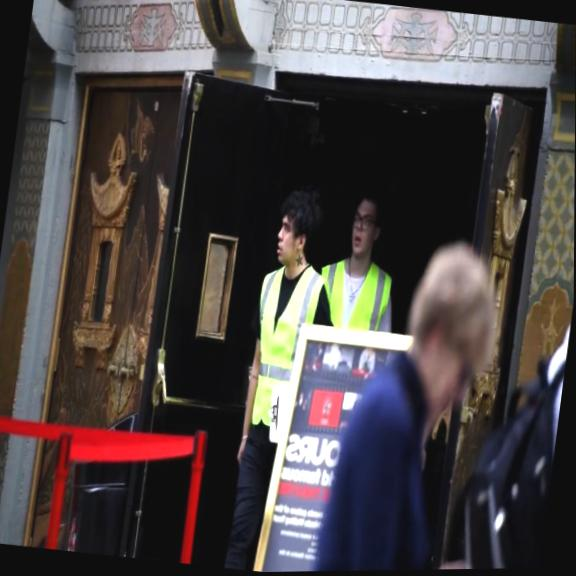safety_vest: (241, 255, 327, 433), (313, 245, 397, 335)
